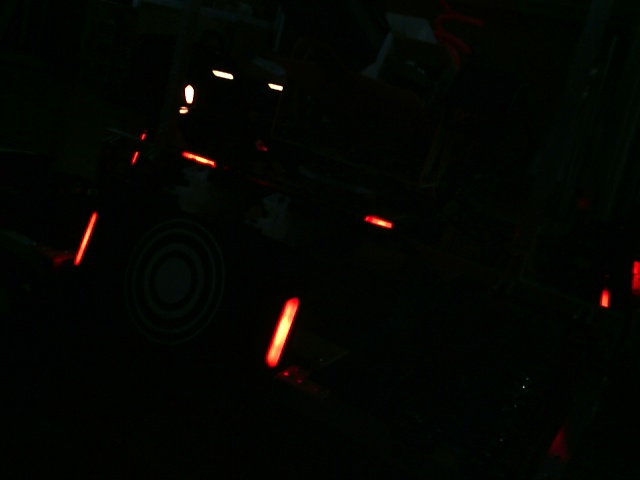lamp: (254, 290, 301, 373), (67, 204, 100, 269)
